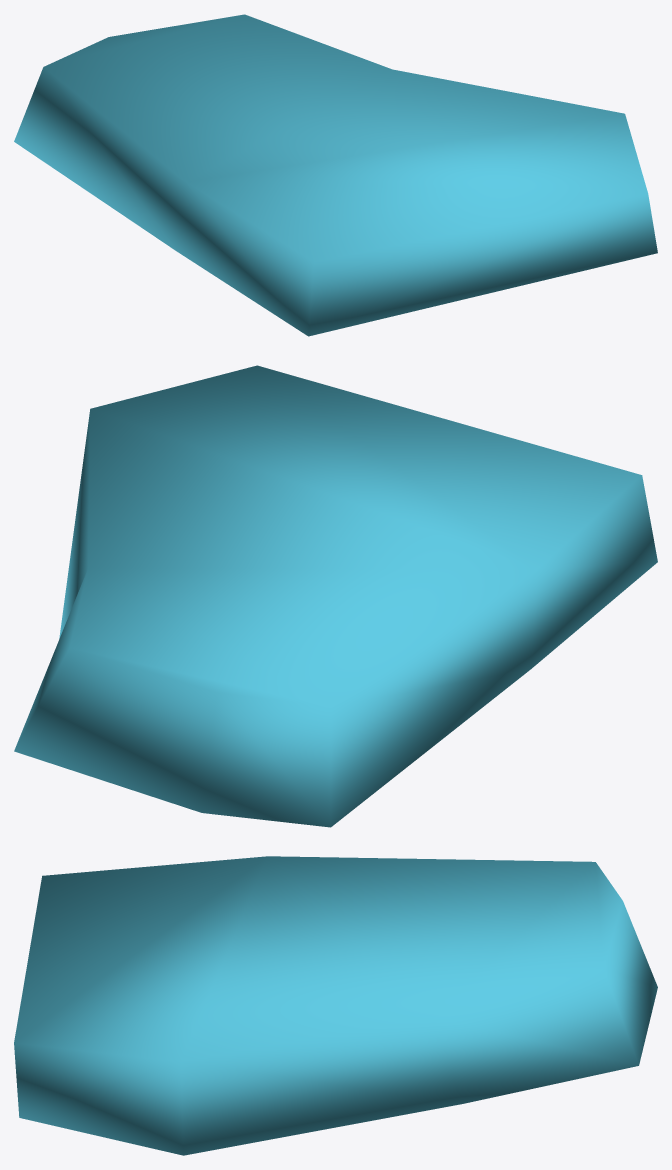
Rendered from brick_16.FBX.
3 views of the same model, one above another, from view 1: azimuth 30°, elevation 25°; view 2: azimuth 150°, elevation 25°; view 3: azimuth 270°, elevation 25° (orthographic). The views are drawn at different scales.
Parts seen in each view (by area): view 1: brick_16; view 2: brick_16; view 3: brick_16.
Part boxes in pixels (x1,y1,x2,y2): brick_16: (14, 14, 657, 336); brick_16: (14, 365, 657, 827); brick_16: (14, 856, 657, 1155).
Size of the model in its own units: 18.68 by 4.06 by 23.76.
